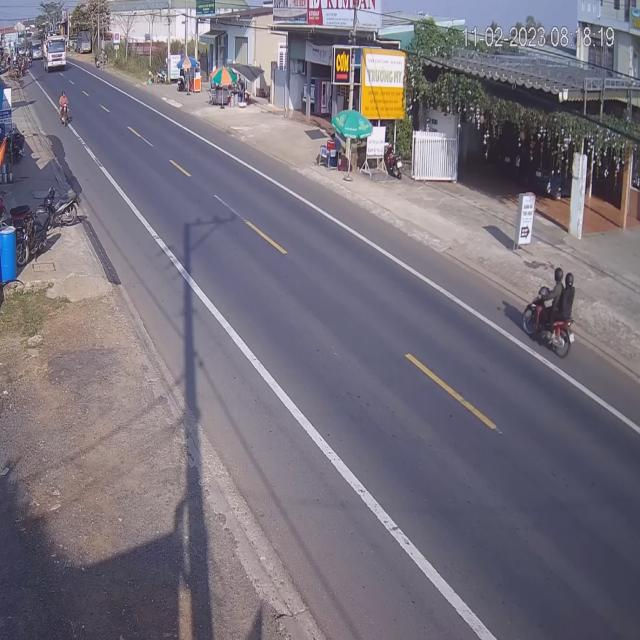motorbike: (524, 264, 578, 357), (58, 92, 70, 126)
truck: (45, 34, 67, 73)
